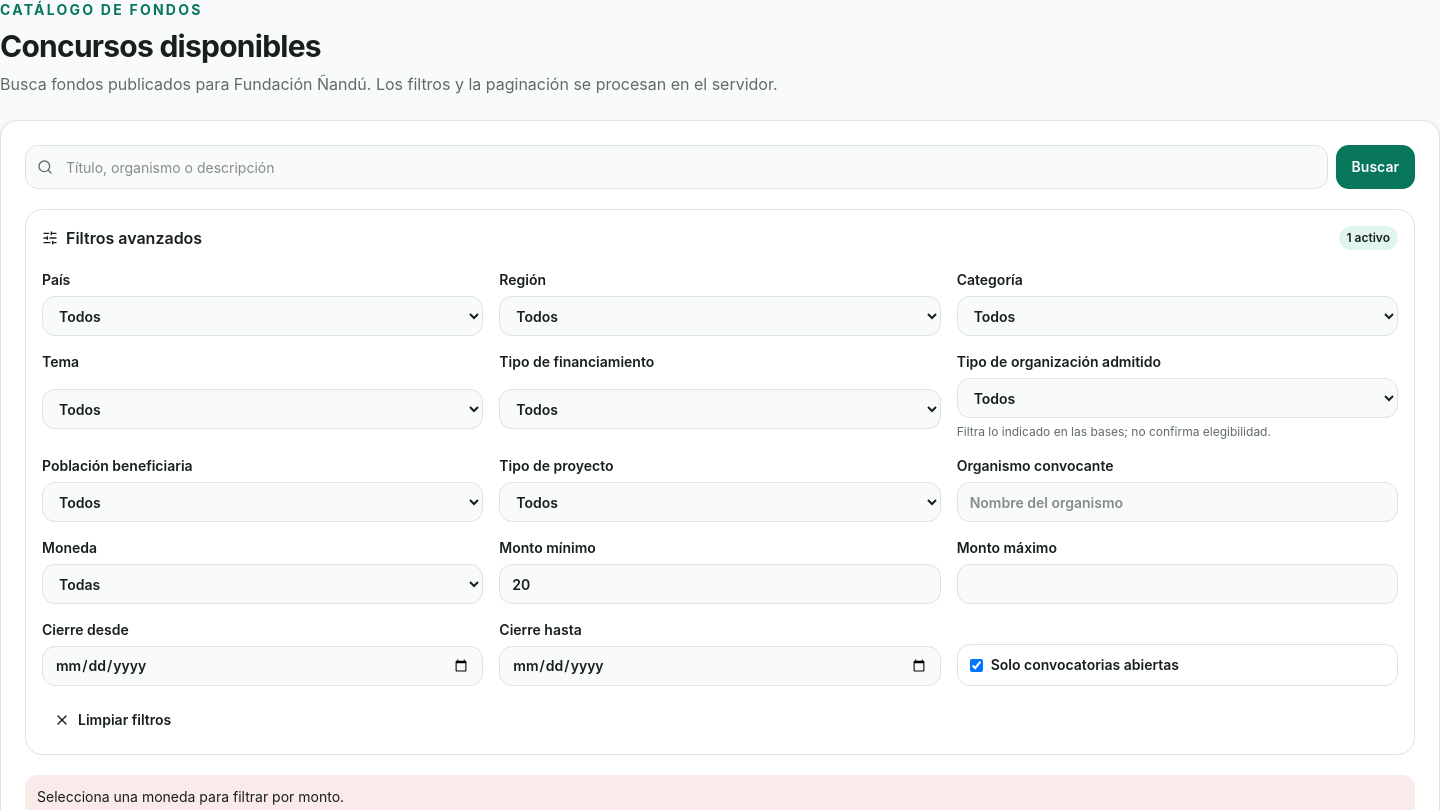
Test: organization funding ES/EN › keeps invalid criteria blocked in both languages (minAmount=20)
expect the message reads "Selecciona una moneda para filtrar por monto.": met, box [37,788,344,805]
Click the heading "Filtros avanzados 1 activo": click(134, 238) [42,226,1398,250]
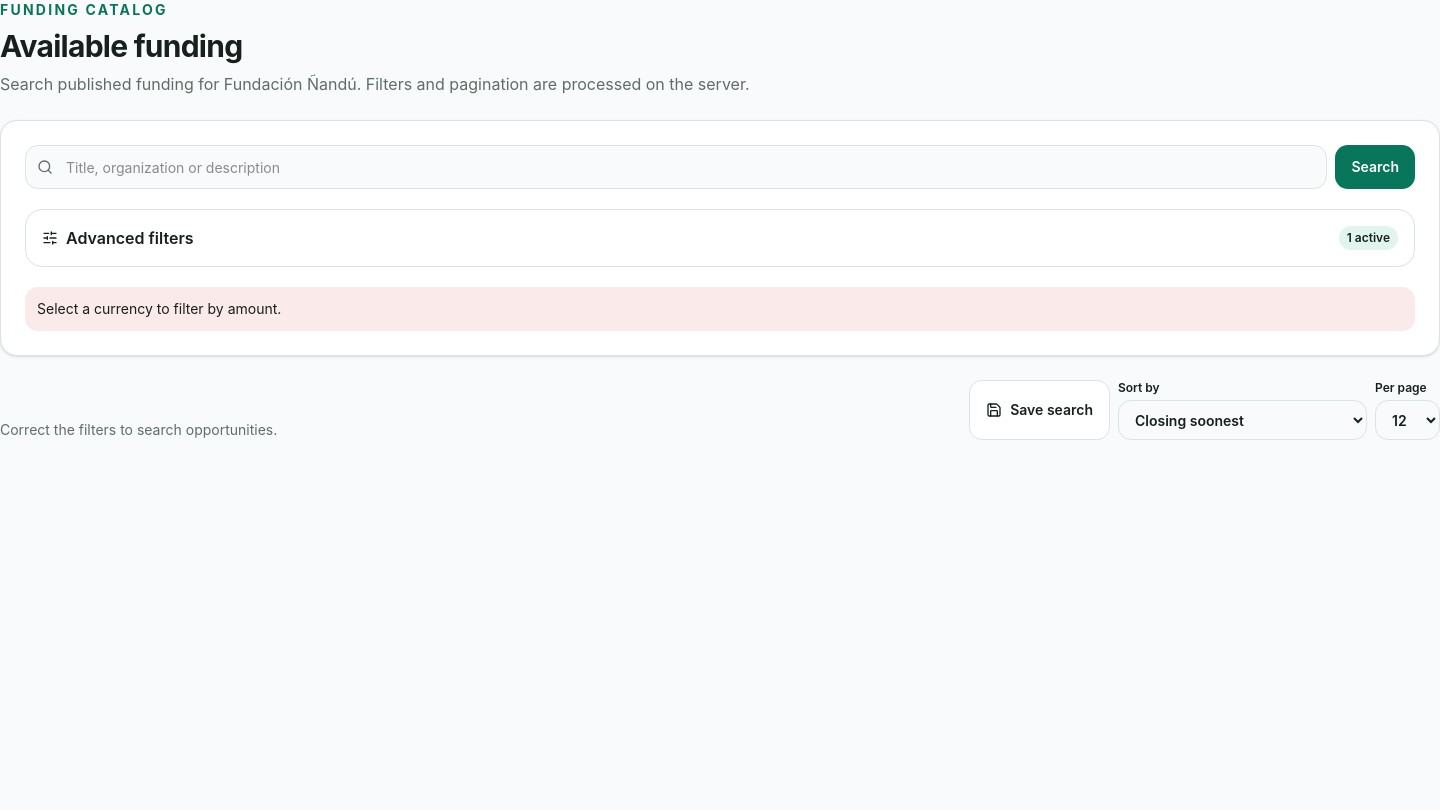
expect the message "Select a currency to filter by amount." is shown: met, box [25,287,1415,331]
expect the message reads "Select a currency to filter by amount.": met, box [37,300,281,317]
